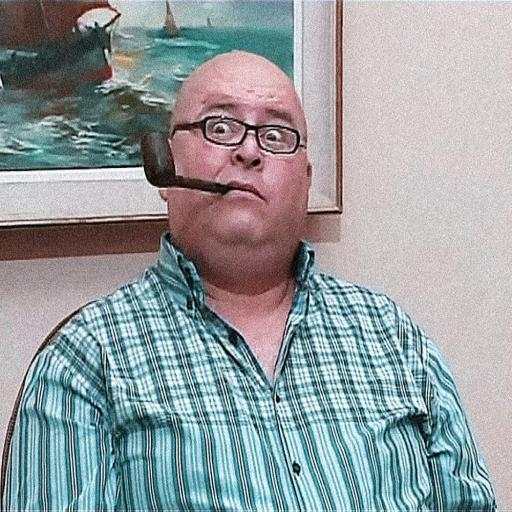sboui: (142, 53, 311, 289)
